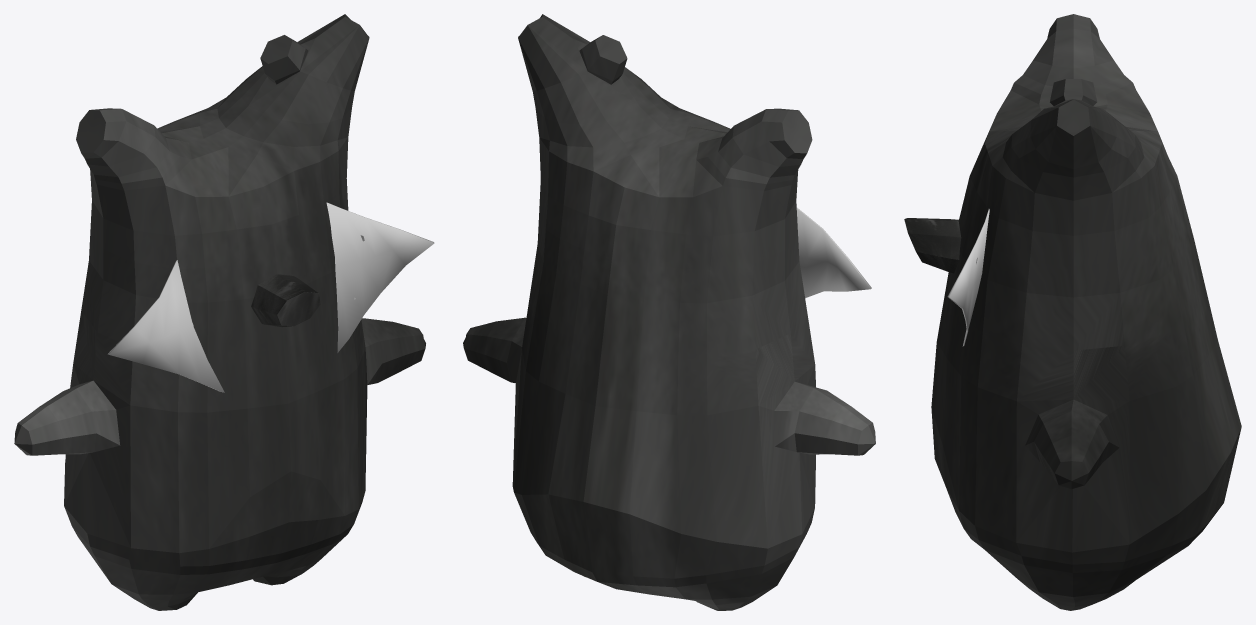
The model's file is frame_0038.obj.
The picture shows the model from 3 angles, left to right: view 1: azimuth 30°, elevation 25°; view 2: azimuth 150°, elevation 25°; view 3: azimuth 270°, elevation 25°; orthographic projection.
Parts seen in each view (by area): view 1: korok, leaf, nose; view 2: korok, leaf; view 3: korok, nose, leaf.
Boxes of the visible parts, x1,y1,x2,y2 form: korok: (14,14,425,610); leaf: (108,202,434,392); nose: (251,274,320,327); korok: (463,14,875,610); leaf: (796,207,871,298); korok: (931,14,1241,610); nose: (904,218,961,273); leaf: (947,209,989,346).
Size of the model in its own units: 1.77 by 2.25 by 1.27.
